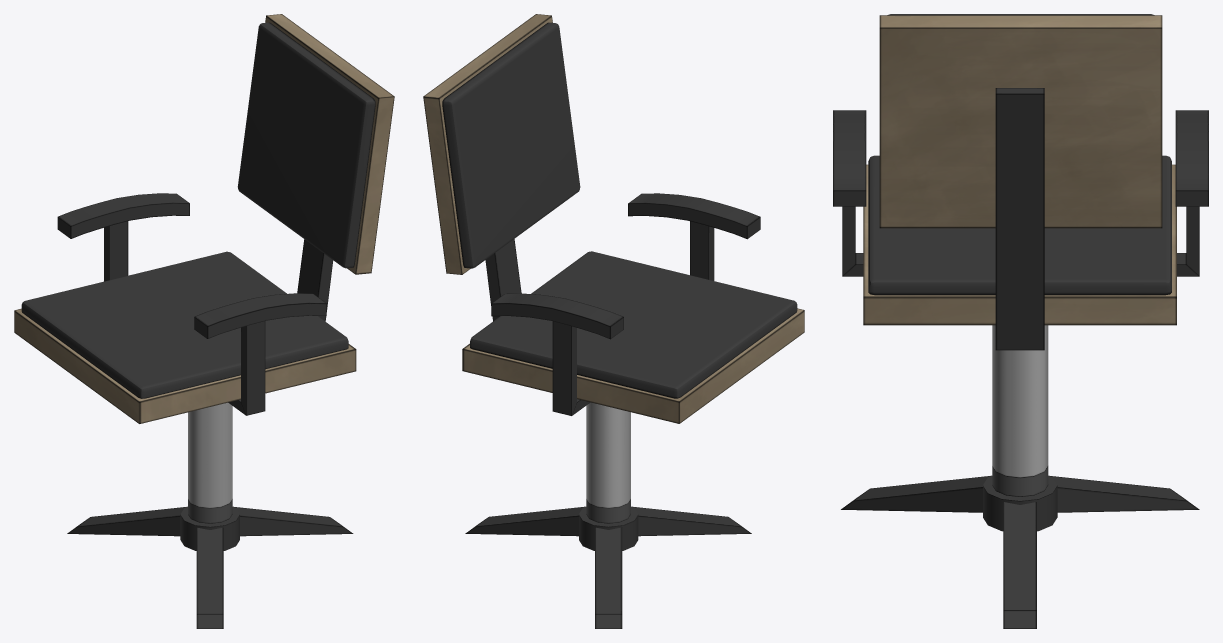
File: chair1.fbx
The picture shows the model from 3 angles, left to right: view 1: azimuth 30°, elevation 25°; view 2: azimuth 150°, elevation 25°; view 3: azimuth 270°, elevation 25°; orthographic projection. The views are drawn at different scales.
Parts seen in each view (by area): view 1: polySurface1323; view 2: polySurface1323; view 3: polySurface1323.
Boxes of the visible parts, x1=… form: polySurface1323: x1=14, y1=14, x2=394, y2=628; polySurface1323: x1=423, y1=14, x2=804, y2=628; polySurface1323: x1=833, y1=14, x2=1208, y2=628.
Size of the model in its own units: 0.8011 by 1.35 by 0.7703.
